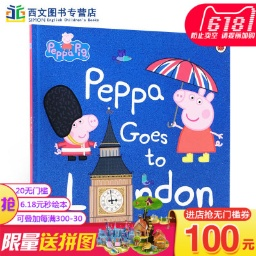Peppa: (173, 86, 225, 164)
